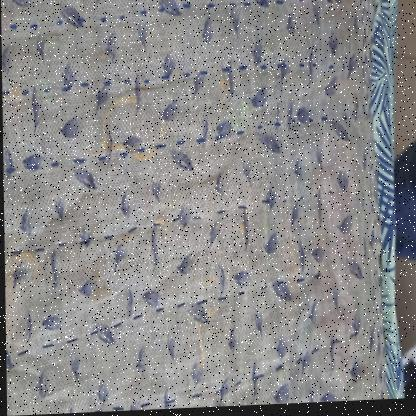spot: (92, 85, 174, 166), (4, 246, 49, 304), (78, 258, 115, 292), (109, 218, 140, 256), (189, 303, 205, 372), (143, 202, 174, 235), (231, 99, 256, 138), (7, 75, 29, 110), (201, 311, 221, 336), (236, 214, 251, 241), (202, 273, 220, 292), (95, 45, 113, 64), (217, 76, 229, 94)
